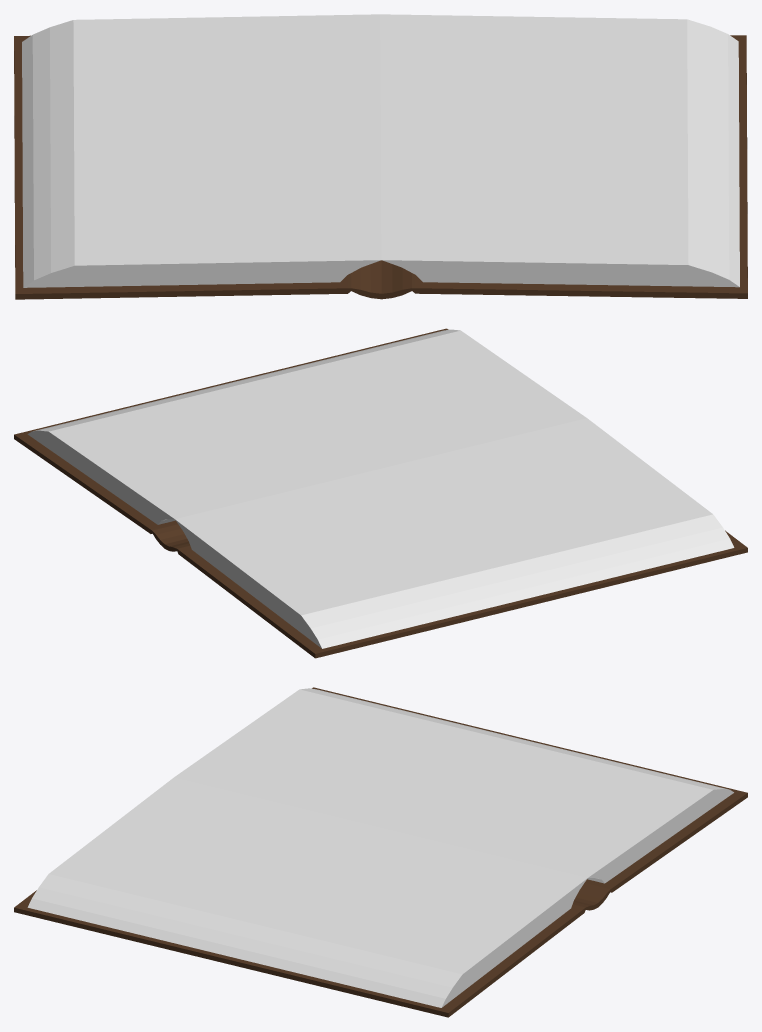
File: book.fbx
The picture shows the model from 3 angles, top to bottom: view 1: azimuth 30°, elevation 25°; view 2: azimuth 150°, elevation 25°; view 3: azimuth 270°, elevation 25°; orthographic projection. The views are drawn at different scales.
Parts seen in each view (by area): view 1: book.001; view 2: book.001; view 3: book.001.
Boxes of the visible parts, <box> form: book.001: <box>14,14,747,299</box>; book.001: <box>14,328,747,658</box>; book.001: <box>14,687,747,1017</box>.
Bounding box in the file's own units: 36.93 × 1.43 × 35.16.
